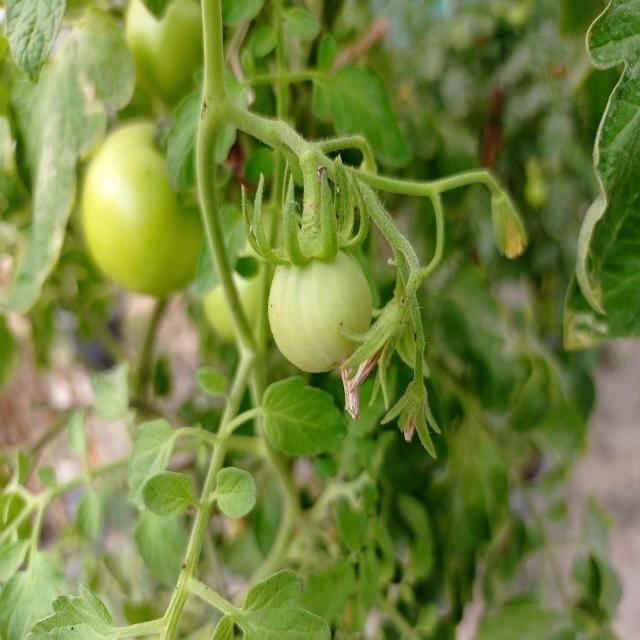Unripe: (82, 120, 208, 294), (268, 237, 373, 376)
